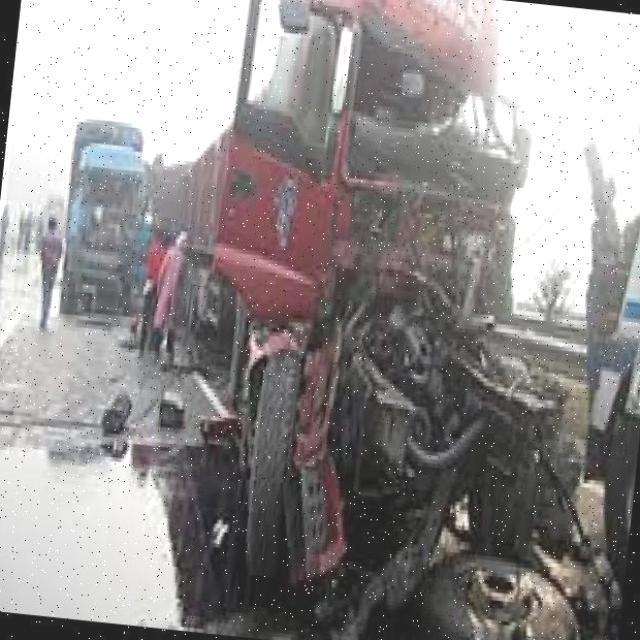accident: (191, 13, 640, 640), (46, 113, 193, 328)
